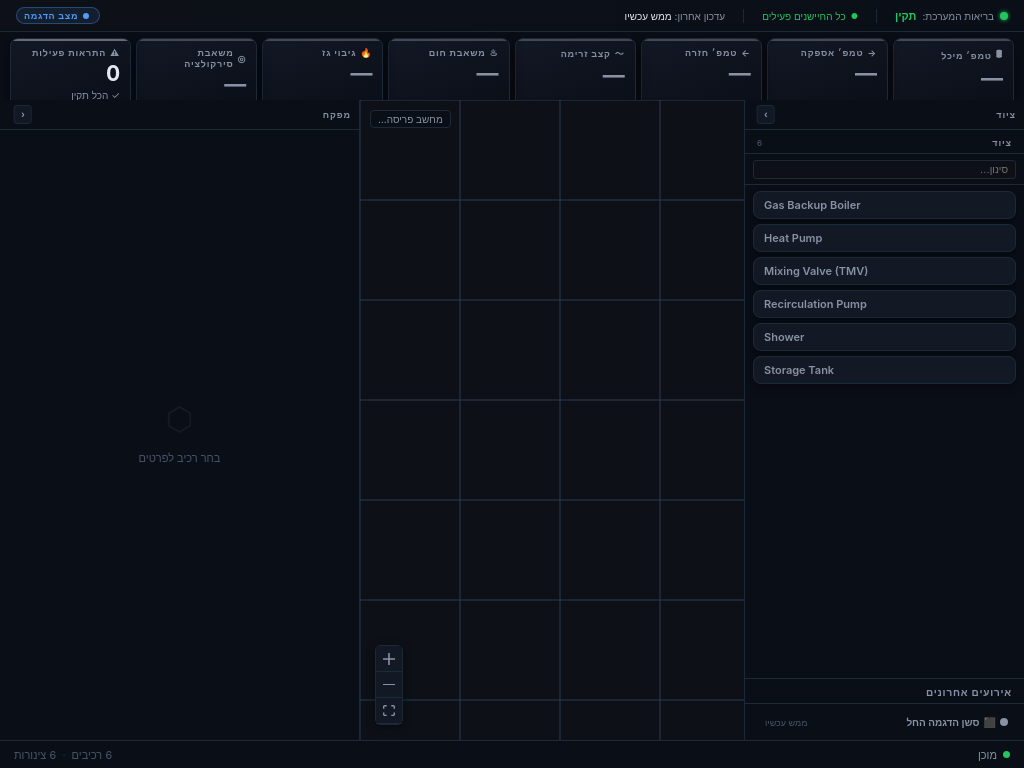
Test case: MissionControlView › collapses left sidebar when sidebar-left-toggle is clicked
The image size is (1024, 768).
Click the button with test id "sidebar-left-toggle" at (766, 114), box [757, 105, 775, 124]
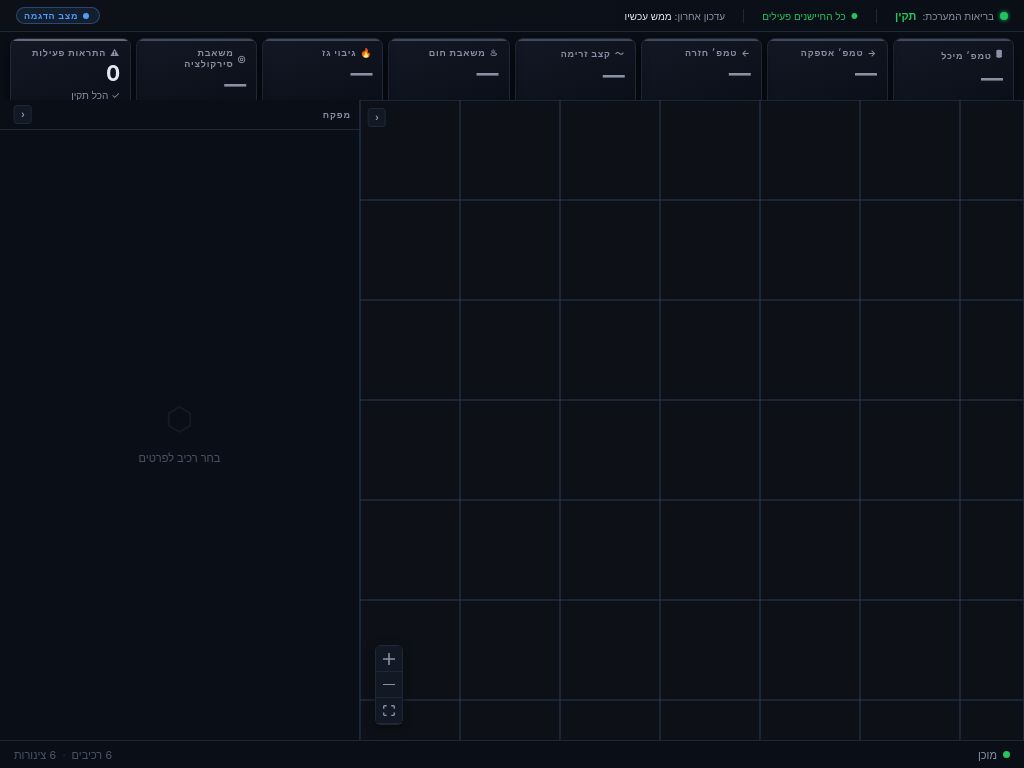
Expected: the button with test id "sidebar-left-expand" is shown, [368, 108, 386, 127]
